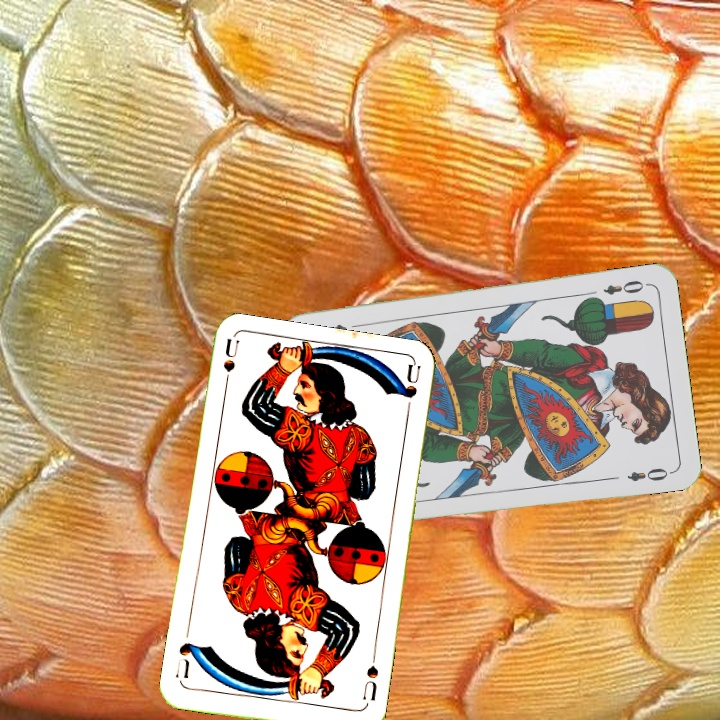EO: (599, 276, 651, 297)
SU: (219, 337, 241, 396), (358, 652, 381, 704)
